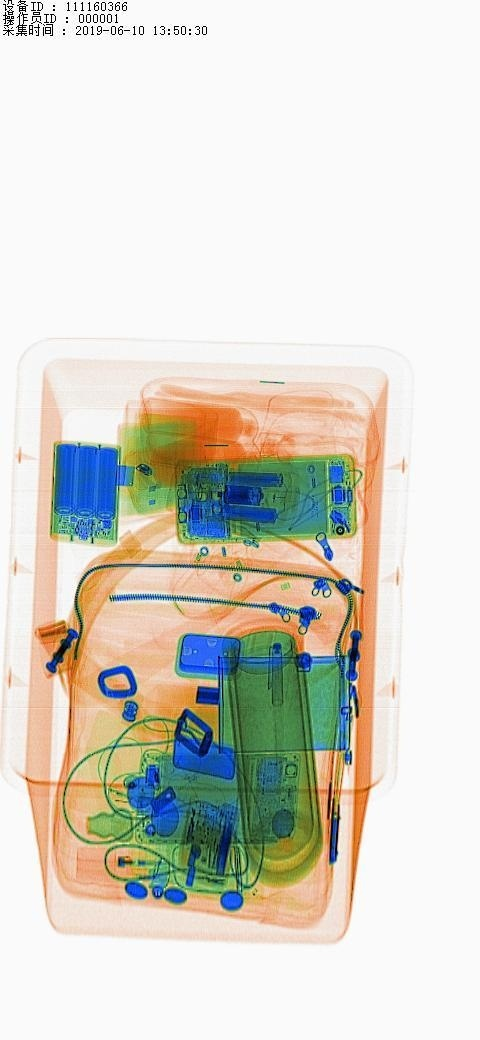NonmetallicFire: (74, 839, 196, 897)
